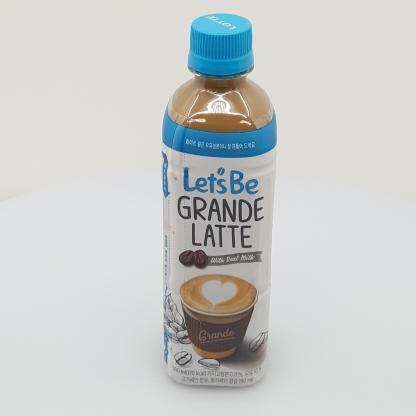--------500ML: (161, 13, 277, 387)
